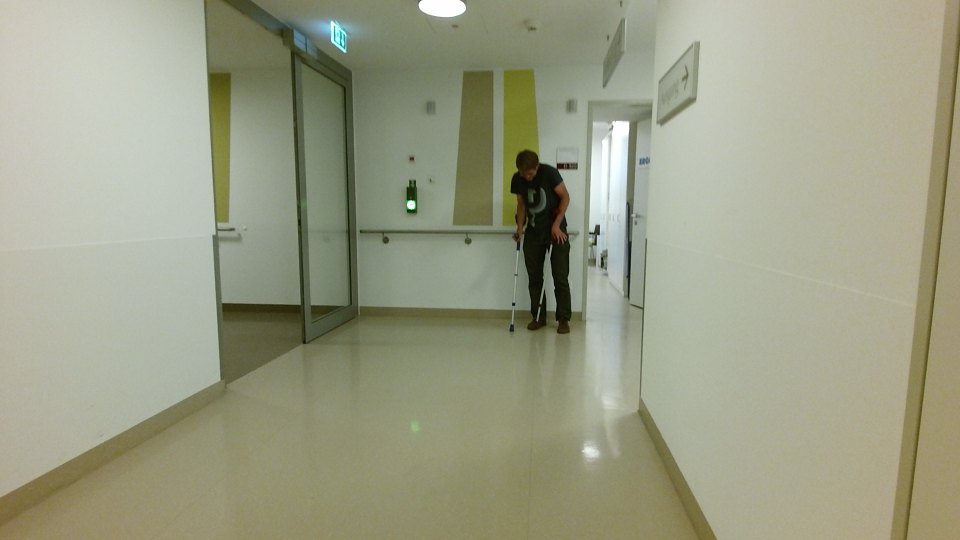crutches: (502, 143, 574, 344)
